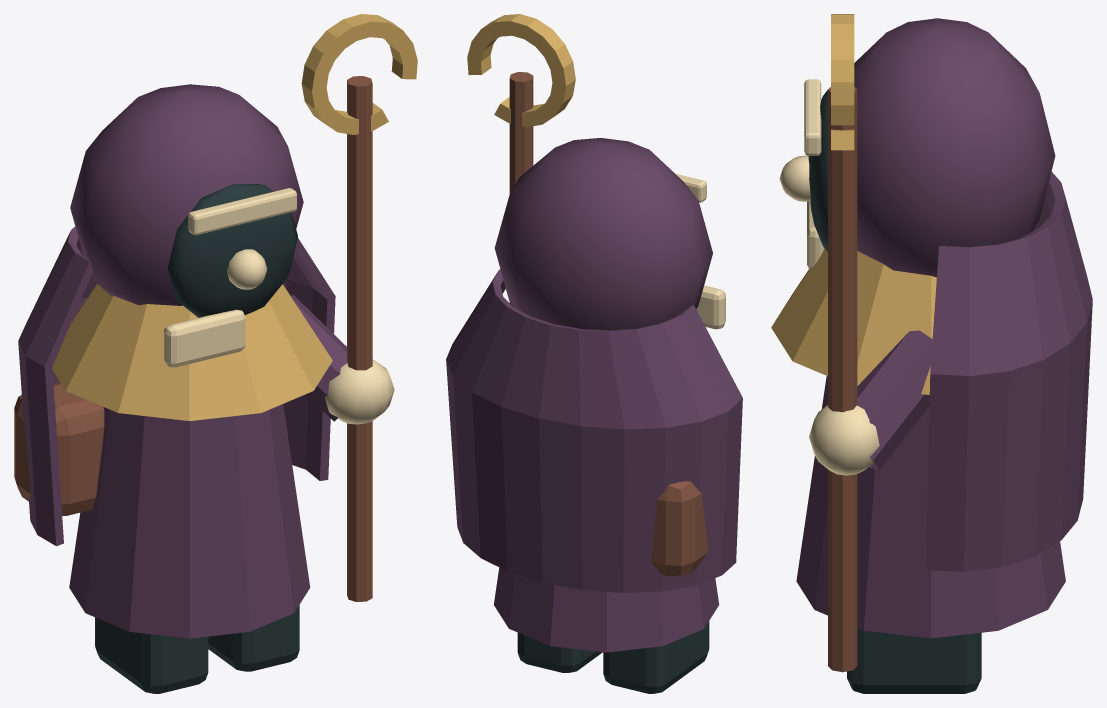
Rendered from mage.glb.
3 renders of one model, left to right at view 1: azimuth 30°, elevation 25°; view 2: azimuth 150°, elevation 25°; view 3: azimuth 270°, elevation 25°, orthographic. The views are drawn at different scales.
Parts seen in each view (by area): view 1: mage_solid, mage_mantle; view 2: mage_mantle, mage_solid; view 3: mage_solid, mage_mantle.
Boxes of the visible parts, <box> form: mage_solid: <box>14,14,417,693</box>; mage_mantle: <box>18,226,335,546</box>; mage_mantle: <box>446,269,742,592</box>; mage_solid: <box>467,14,740,693</box>; mage_solid: <box>771,14,1065,693</box>; mage_mantle: <box>925,171,1092,571</box>.
Bounding box in the file's own units: 1.01 × 1.86 × 0.7638.
